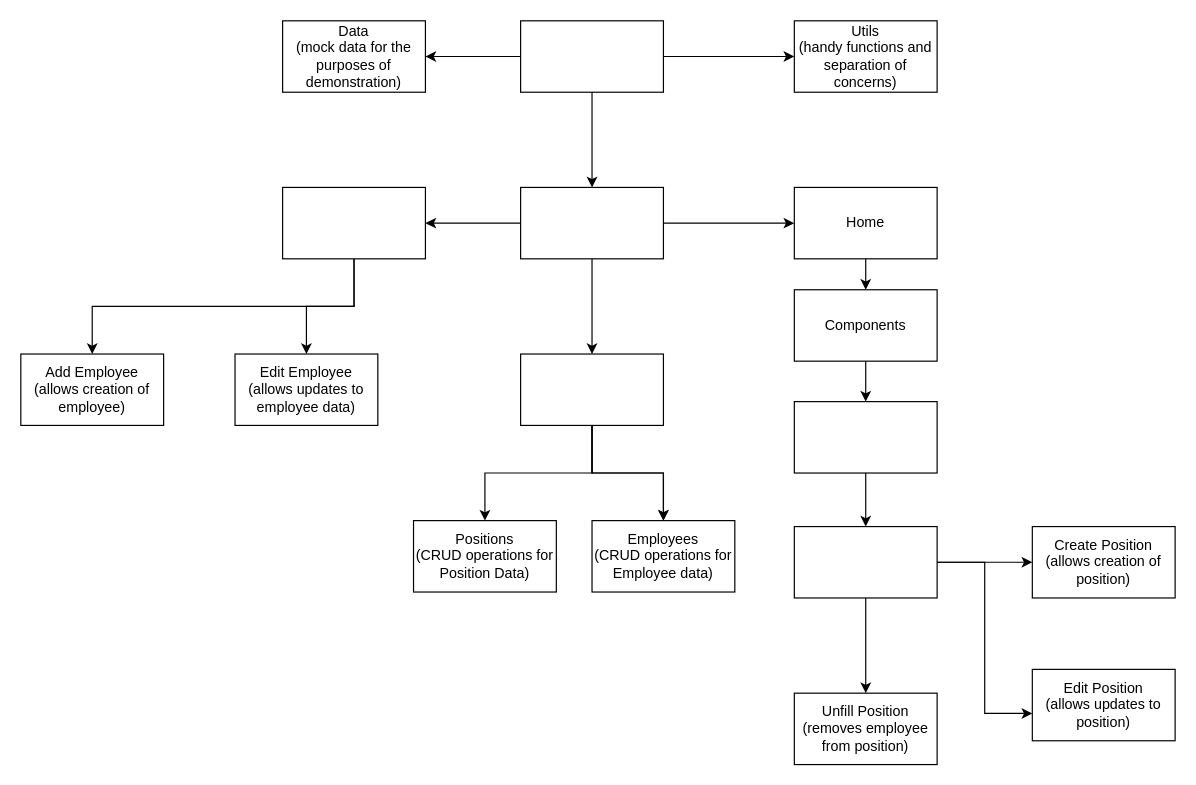
This 1196x785 diagram has some shape labels left out. Here are the shapes that lost their labels. From the top down, the box of each, then its label:
(519, 20, 663, 92): App
(281, 186, 425, 259): Employees (displays data in table with manage actions)
(519, 186, 663, 259): Pages
(519, 353, 663, 425): API
(793, 400, 937, 473): Org Chart (Displays position in a tree like hierarchy)
(793, 525, 937, 598): Position Badge (Displays position and employee info)
